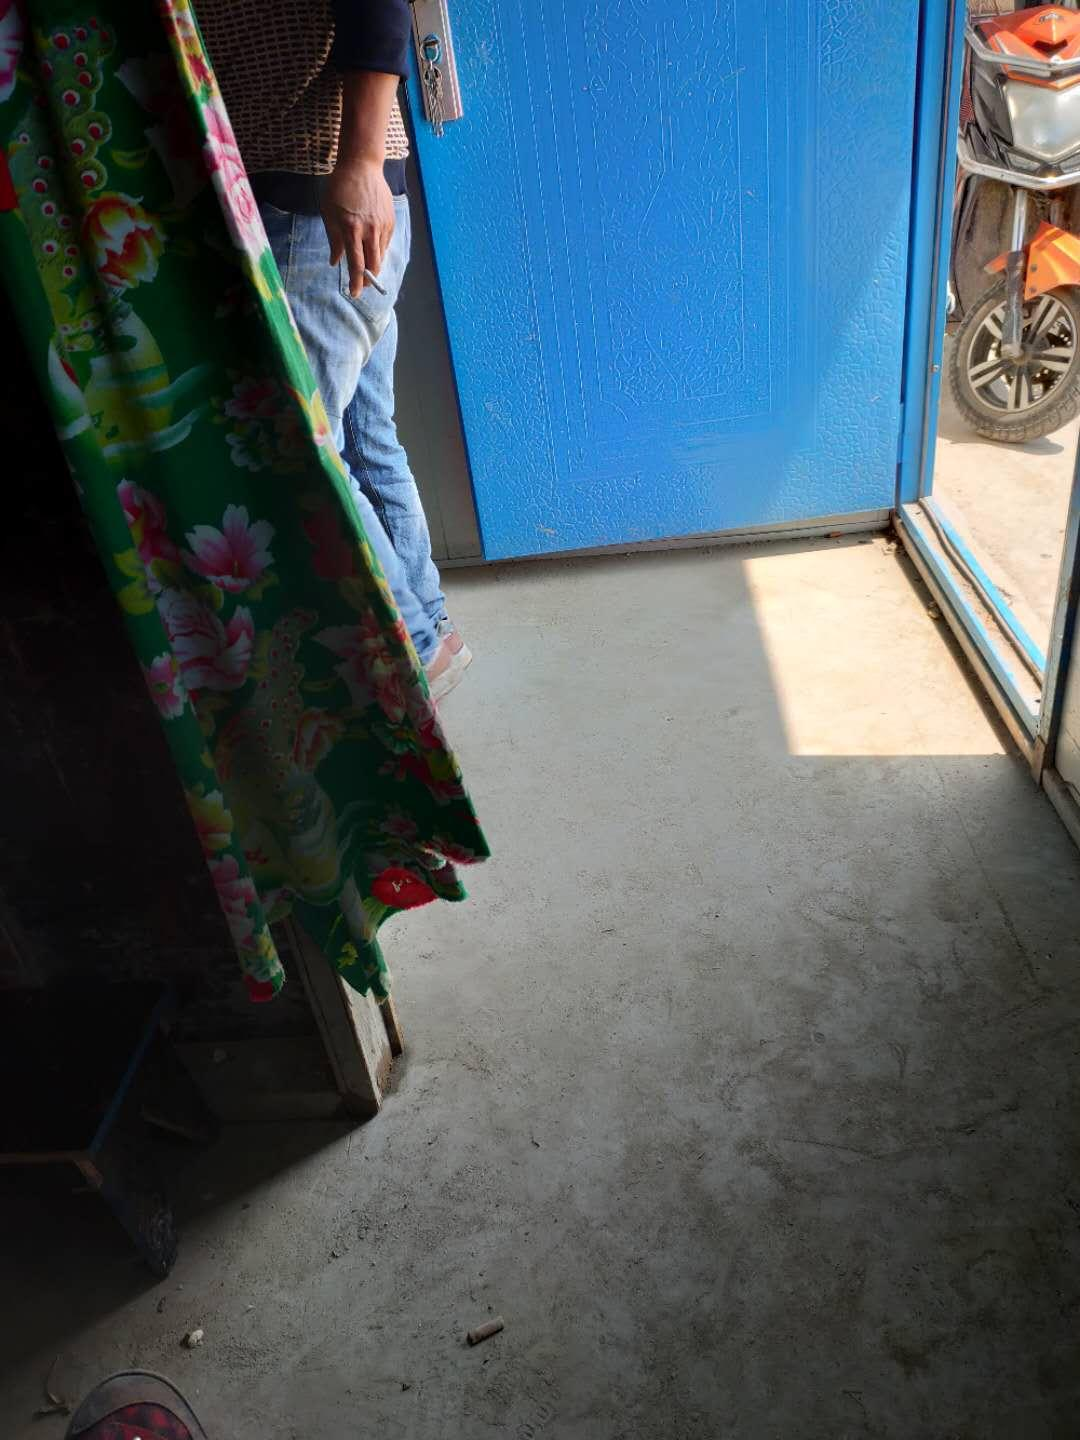Cigarette: (363, 266, 388, 296)
